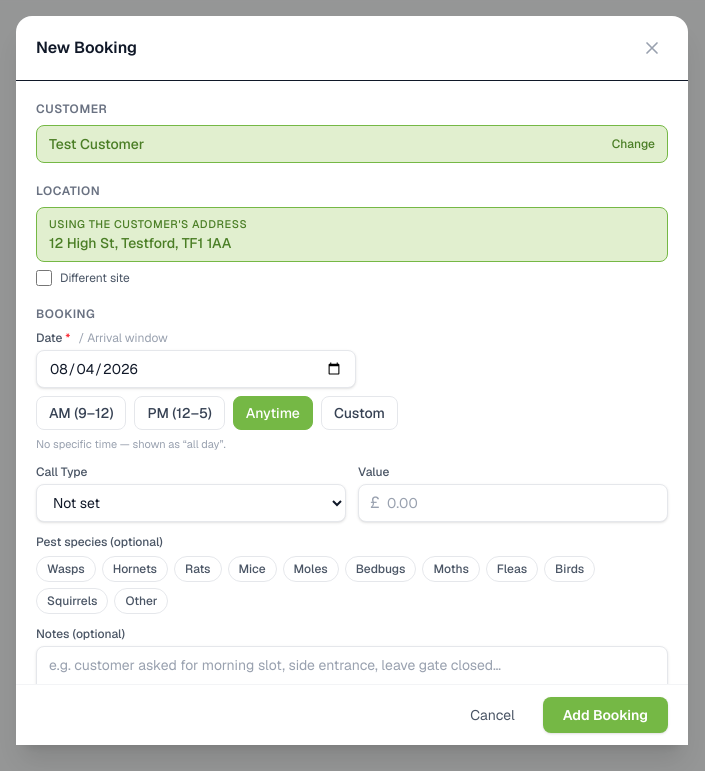
Test case: BookingModal — Location collapses to the customer's address › 'Different site' reveals the controls and round-trips back
Check: the text "Using the customer's address" is shown, box [49,217,247,231]
Tick → the Existing/New controls appear.
Click the checkbox labelled "Different site" at (44, 278), box [36,270,52,286]
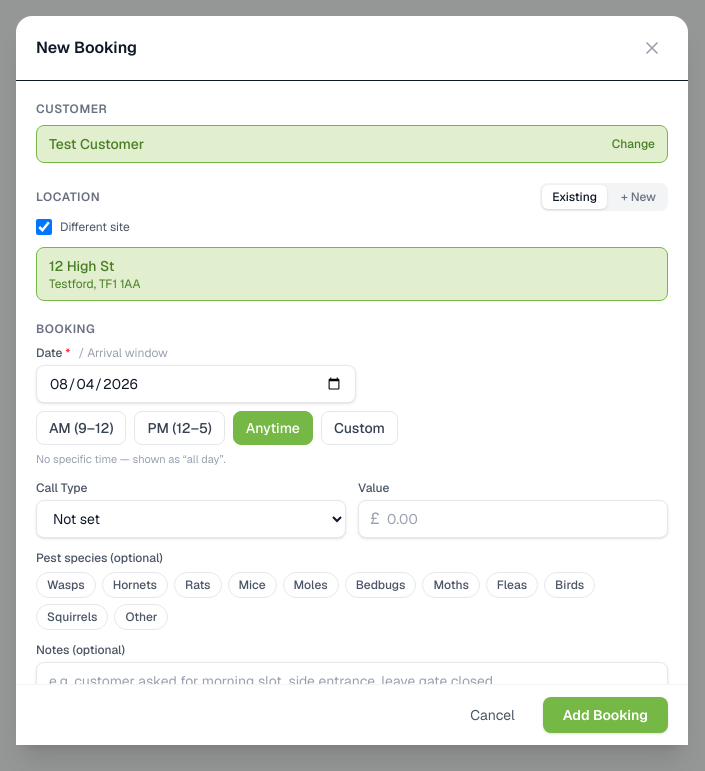
Check: the button "+ New" is shown, box [611,185,666,209]
Untick → collapses back to the same reused site.
Click the checkbox labelled "Different site" at (44, 227), box [36,219,52,235]
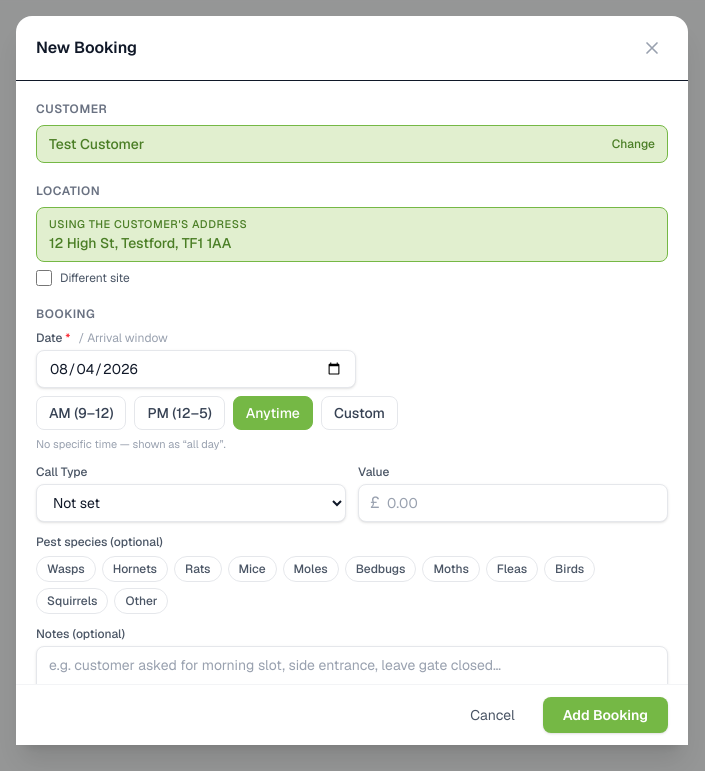
Check: the text "Using the customer's address" is shown, box [49,217,247,231]
